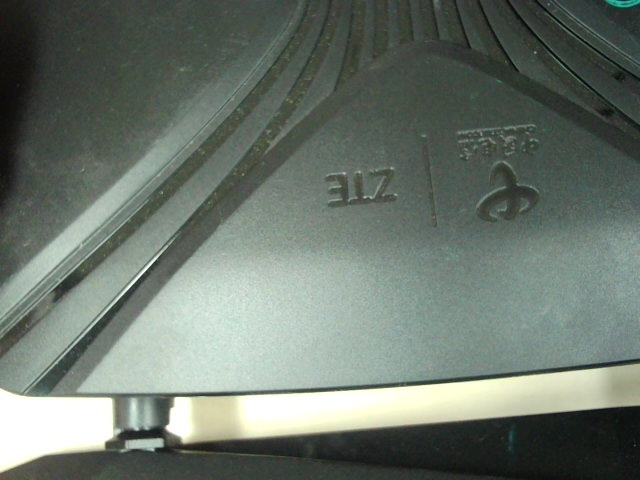AX_ZTEChinaTelecom: (321, 121, 551, 226)
